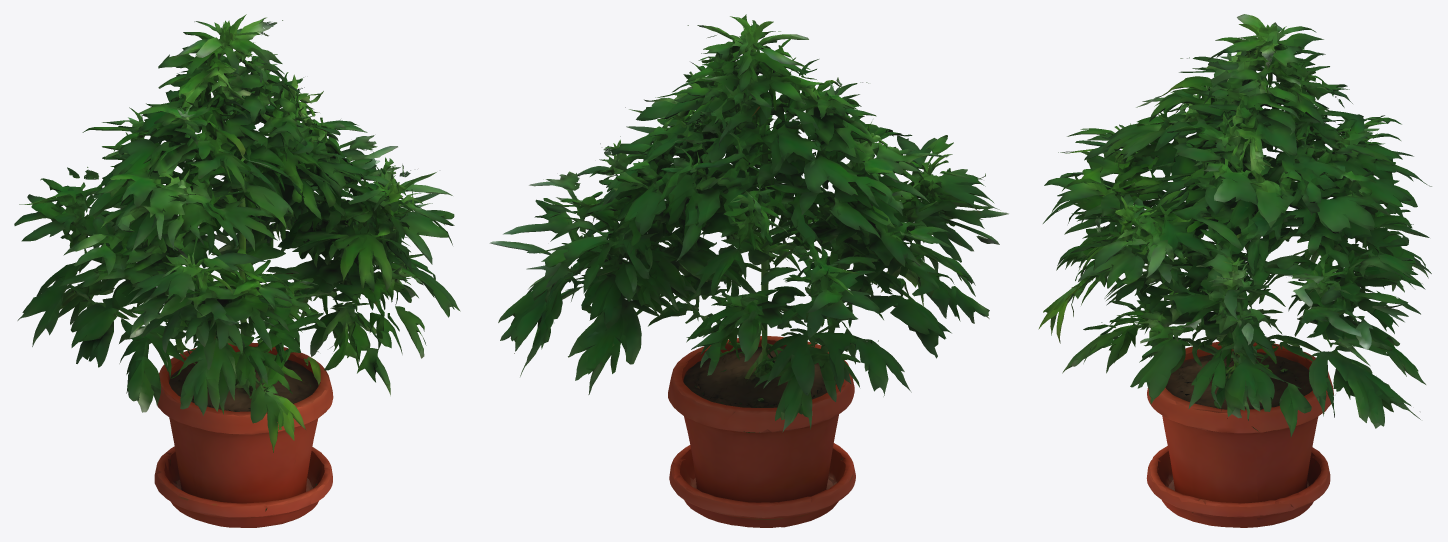
The model's file is plant.glb.
3 views of the same model, side by side, from view 1: azimuth 30°, elevation 25°; view 2: azimuth 150°, elevation 25°; view 3: azimuth 270°, elevation 25° (orthographic). The views are drawn at different scales.
Parts seen in each view (by area): view 1: model; view 2: model; view 3: model.
Part boxes in pixels (box(x1,y1,x2,y2)): model: box(14, 14, 460, 527); model: box(489, 14, 1008, 527); model: box(1038, 14, 1431, 527).
Bounding box in the file's own units: 0.0843 × 0.1 × 0.0751.
1 material, 1 textured.
